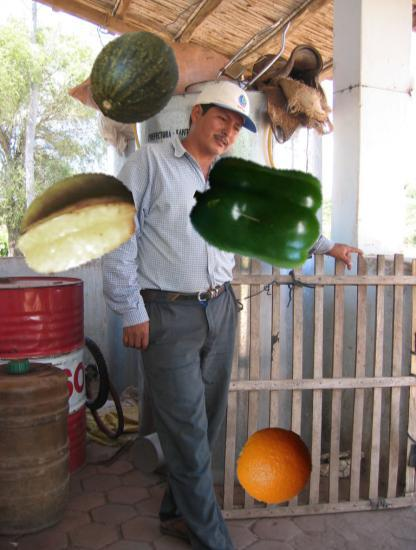Carambula: (11, 158, 138, 285)
Melon: (88, 30, 182, 124)
Orange: (236, 427, 313, 504)
Pepper: (194, 144, 326, 276)
